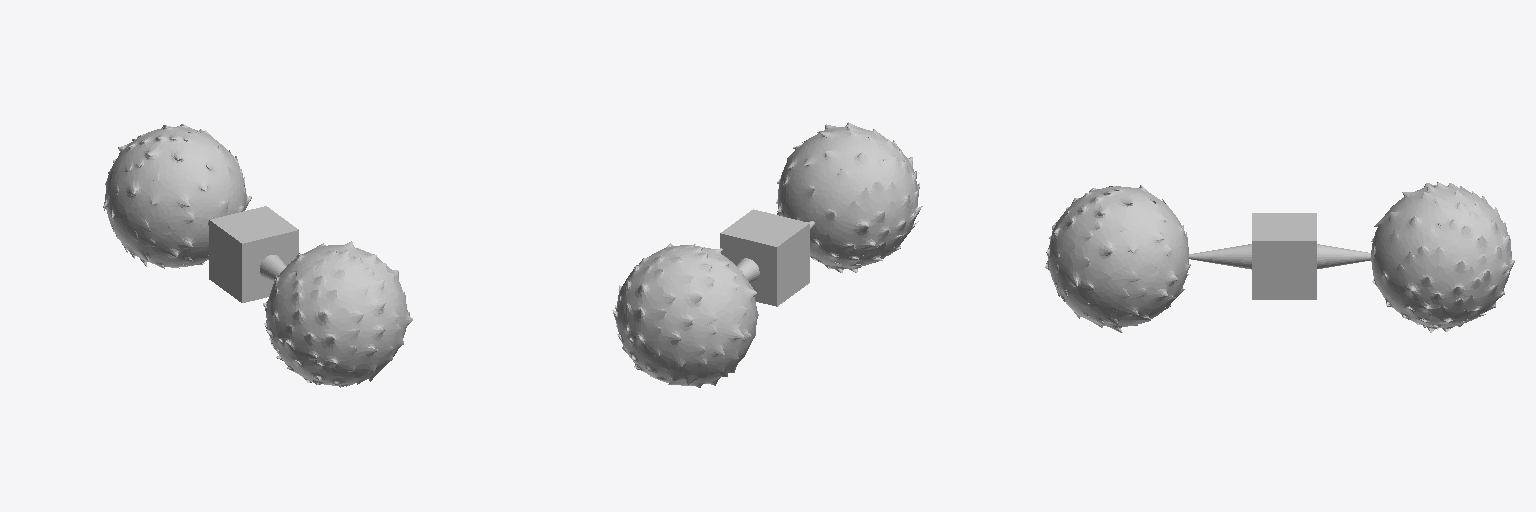
File: pair.obj
3 views of the same model, side by side, from view 1: azimuth 30°, elevation 25°; view 2: azimuth 150°, elevation 25°; view 3: azimuth 270°, elevation 25° (orthographic).
Parts seen in each view (by area): view 1: Sphere_Sphere.002, Sphere.001_Sphere.003, Cube; view 2: Sphere.001_Sphere.003, Sphere_Sphere.002, Cube; view 3: Sphere.001_Sphere.003, Sphere_Sphere.002, Cube, Cone, Cone.001.
Part boxes in pixels (x1,y1,x2,y2): Sphere_Sphere.002: (263,241,412,387); Sphere.001_Sphere.003: (103,124,251,268); Cube: (209,206,298,302); Sphere.001_Sphere.003: (612,243,758,387); Sphere_Sphere.002: (776,122,922,272); Cube: (720,209,809,306); Sphere.001_Sphere.003: (1371,182,1514,332); Sphere_Sphere.002: (1045,185,1190,332); Cube: (1252,213,1316,299); Cone: (1189,244,1251,269); Cone.001: (1317,244,1370,268).
Size of the model in its own units: 2.12 by 2.11 by 6.7.